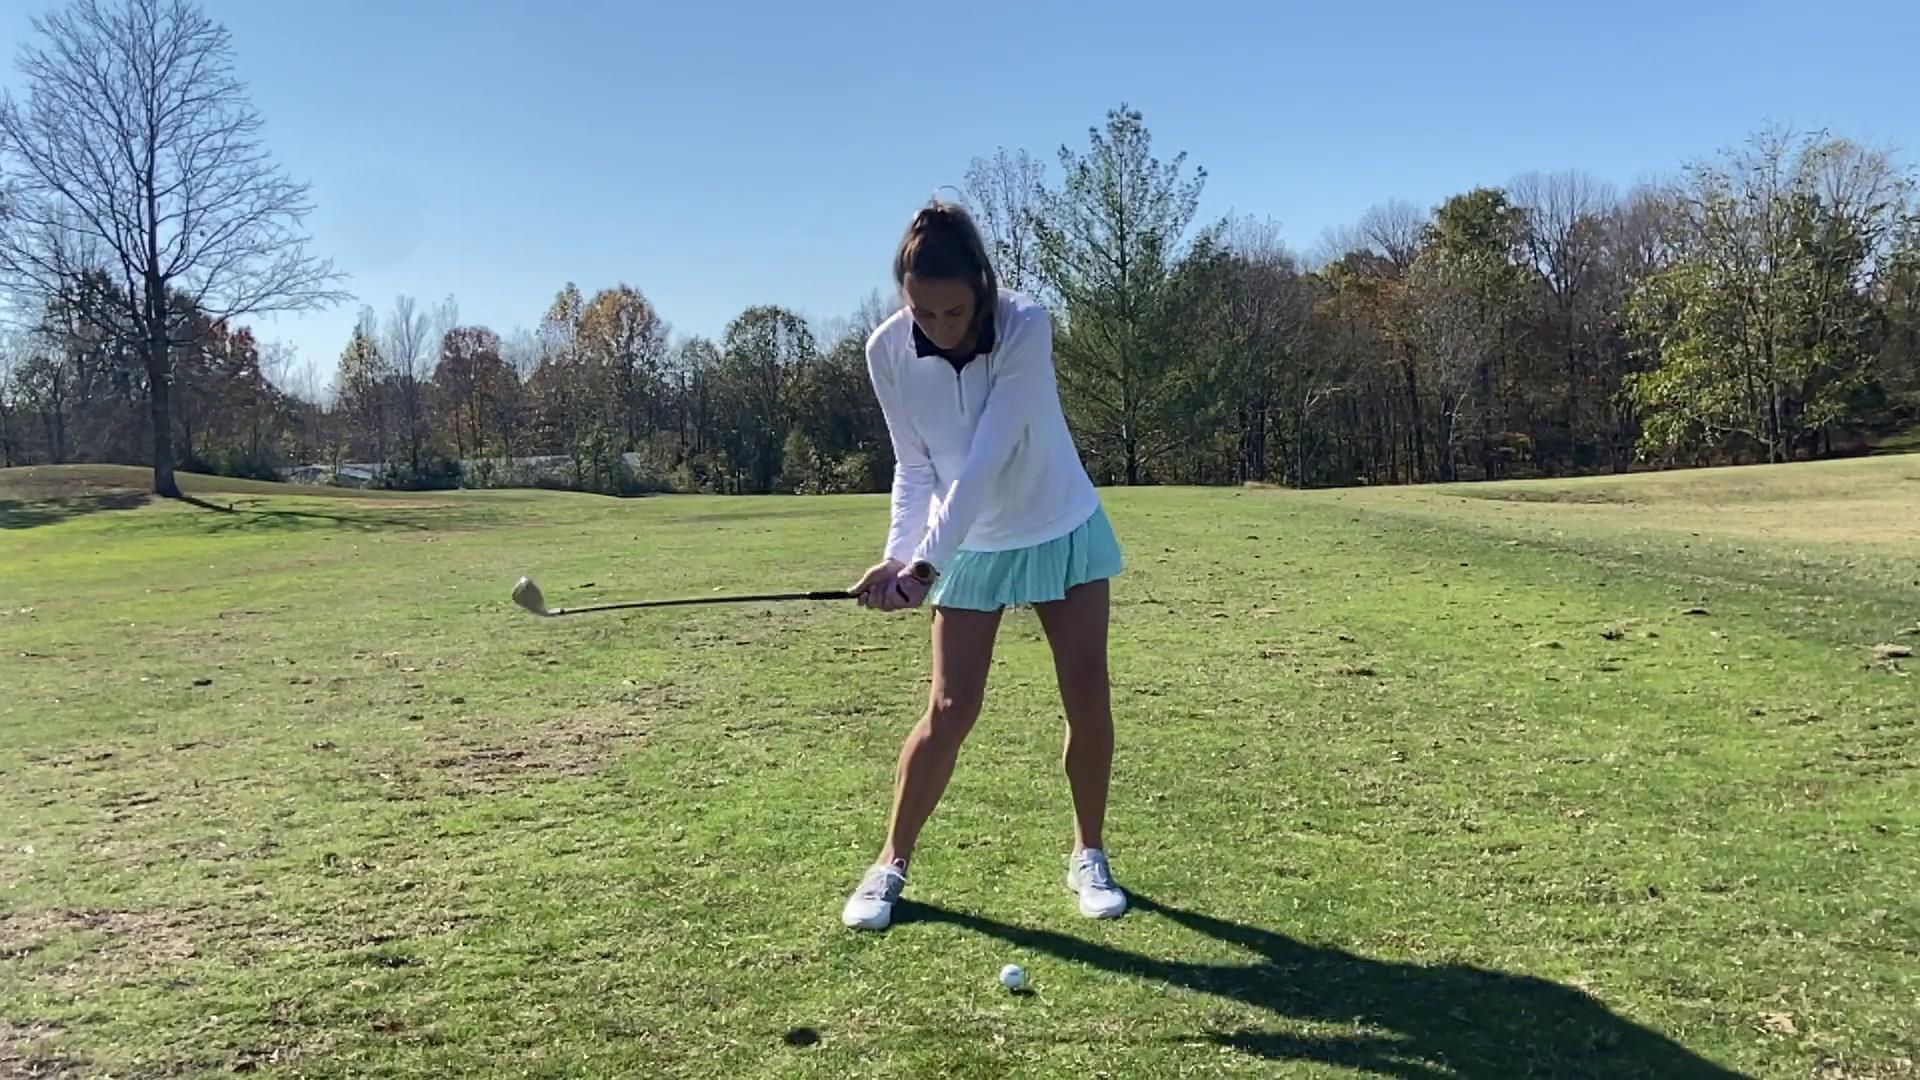ClubHead: (506, 574, 571, 620)
GolfBall: (998, 963, 1027, 992)
